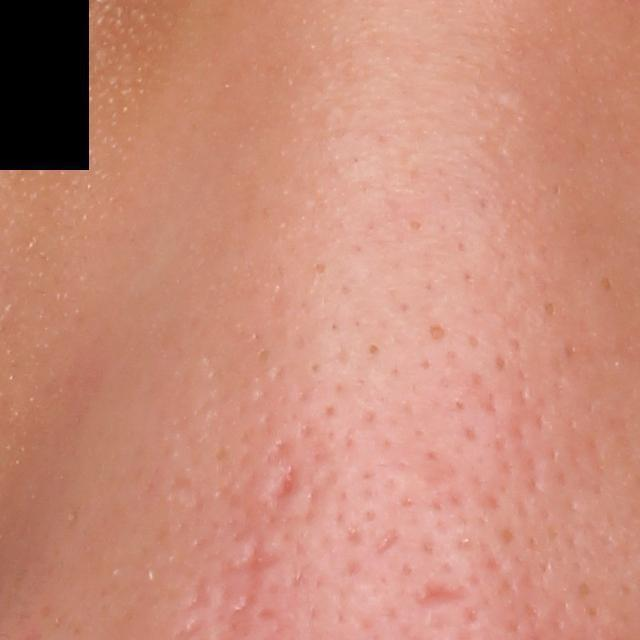atrophic_scar: (222, 520, 282, 626), (411, 577, 468, 607), (268, 460, 298, 509), (184, 570, 214, 612), (264, 434, 292, 467)
comedo: (425, 318, 451, 343), (541, 302, 558, 322), (364, 340, 381, 358)
